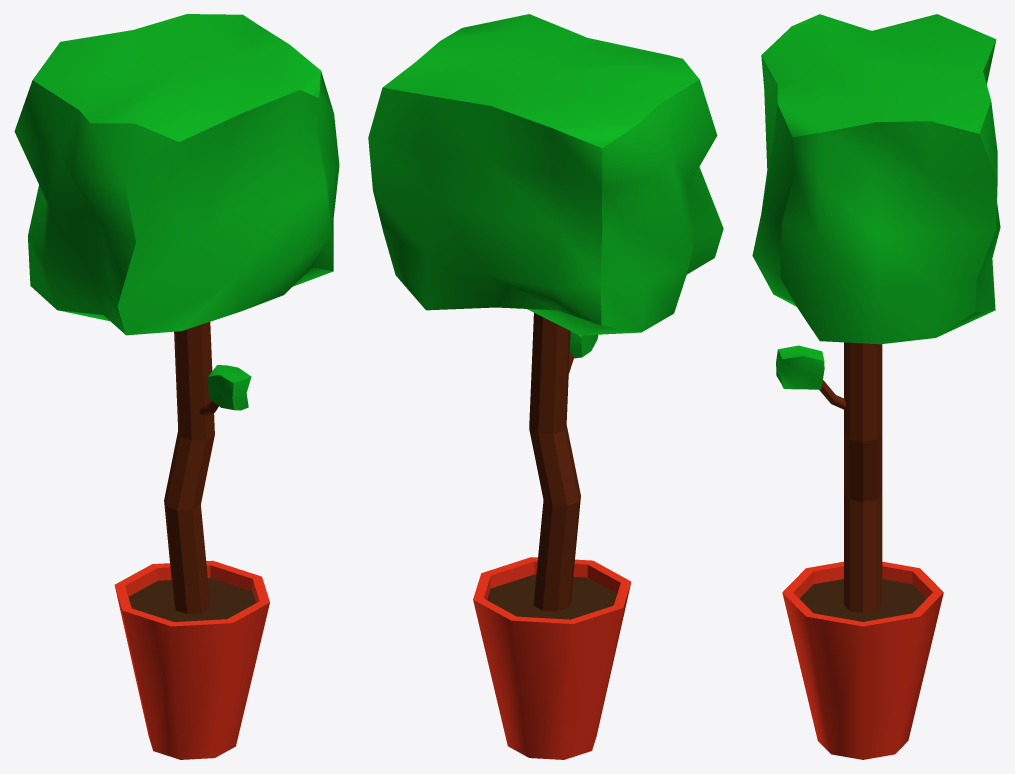
The model's file is Planta02.FBX.
The picture shows the model from 3 angles, left to right: view 1: azimuth 30°, elevation 25°; view 2: azimuth 150°, elevation 25°; view 3: azimuth 270°, elevation 25°; orthographic projection.
Visible parts, largest first — view 1: Planta2; view 2: Planta2; view 3: Planta2.
Boxes of the visible parts, x1=… form: Planta2: x1=14, y1=14, x2=339, y2=759; Planta2: x1=368, y1=14, x2=723, y2=759; Planta2: x1=752, y1=14, x2=1000, y2=759.
Size of the model in its own units: 3.79 by 8.92 by 2.99.
